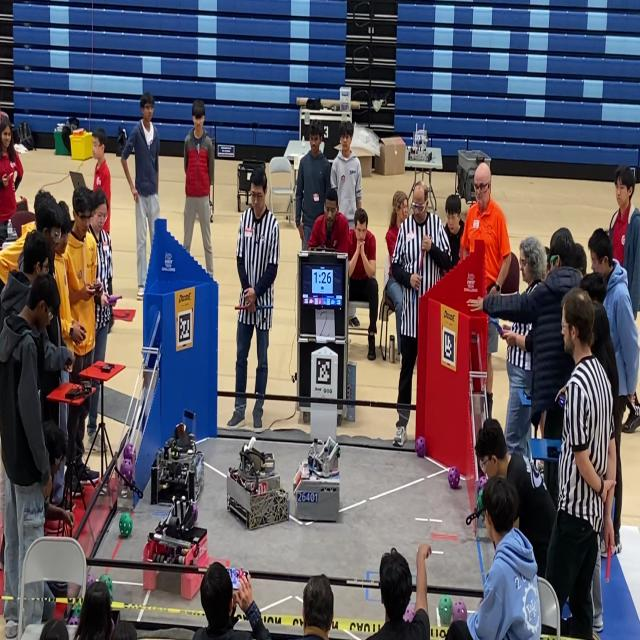artifact_green: (439, 595, 453, 626), (99, 574, 112, 601), (119, 513, 132, 538), (99, 574, 112, 589), (478, 475, 488, 491), (72, 604, 81, 618), (478, 488, 483, 511), (171, 447, 179, 459), (69, 616, 78, 625), (480, 511, 485, 527), (111, 619, 114, 634), (110, 592, 113, 604)
artifact_purple: (452, 601, 467, 621), (448, 466, 460, 489), (120, 459, 132, 481), (415, 437, 426, 458), (123, 443, 134, 460), (404, 604, 414, 622), (478, 475, 488, 491), (87, 573, 96, 587), (193, 502, 198, 523), (68, 616, 78, 625), (111, 619, 114, 634)
